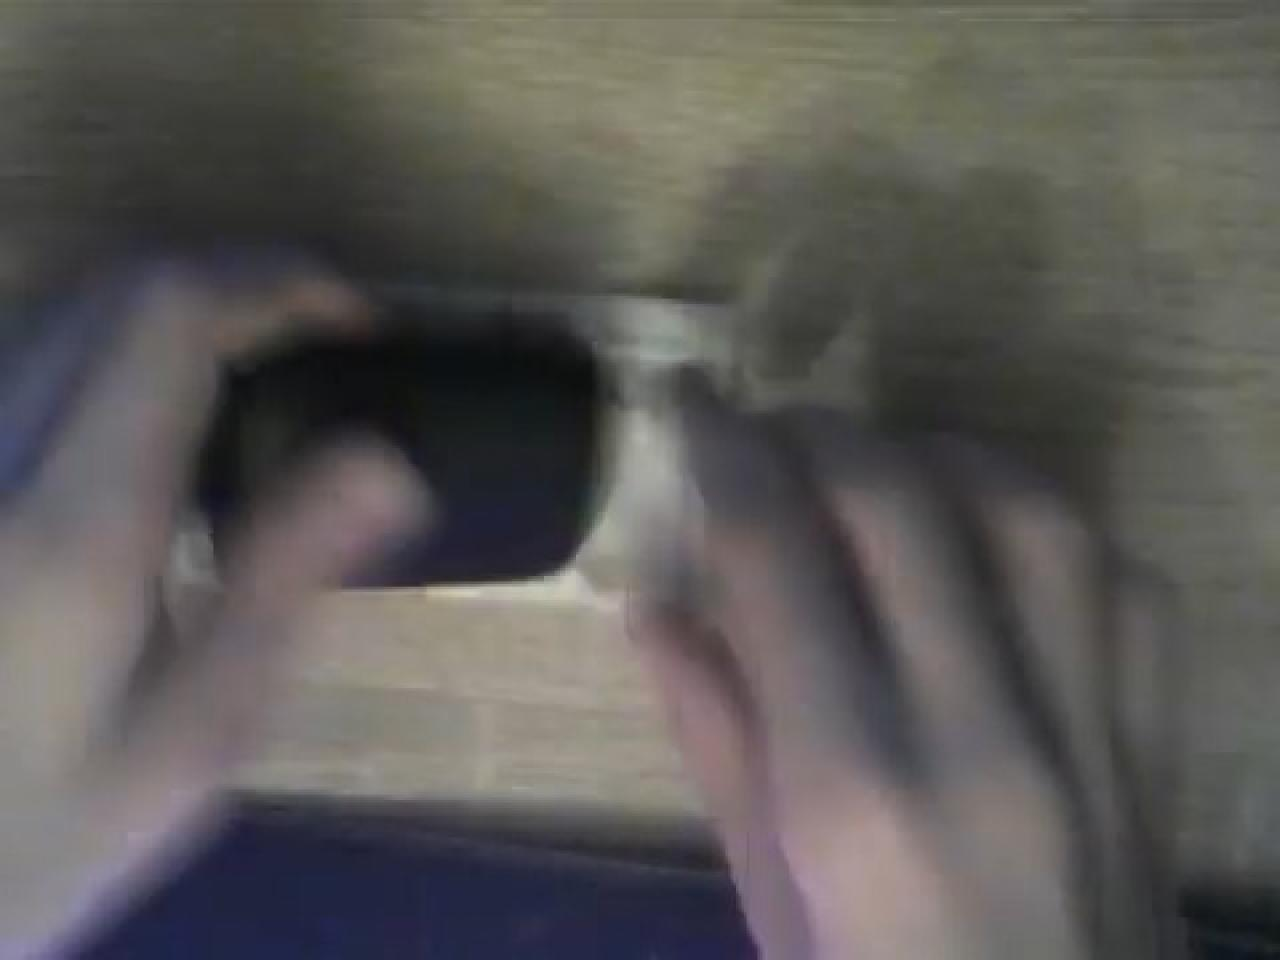10leva: (570, 365, 680, 595)
